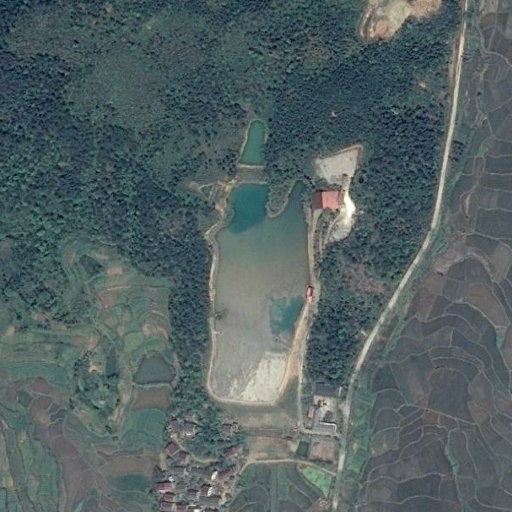tp: (205, 179, 313, 406)
